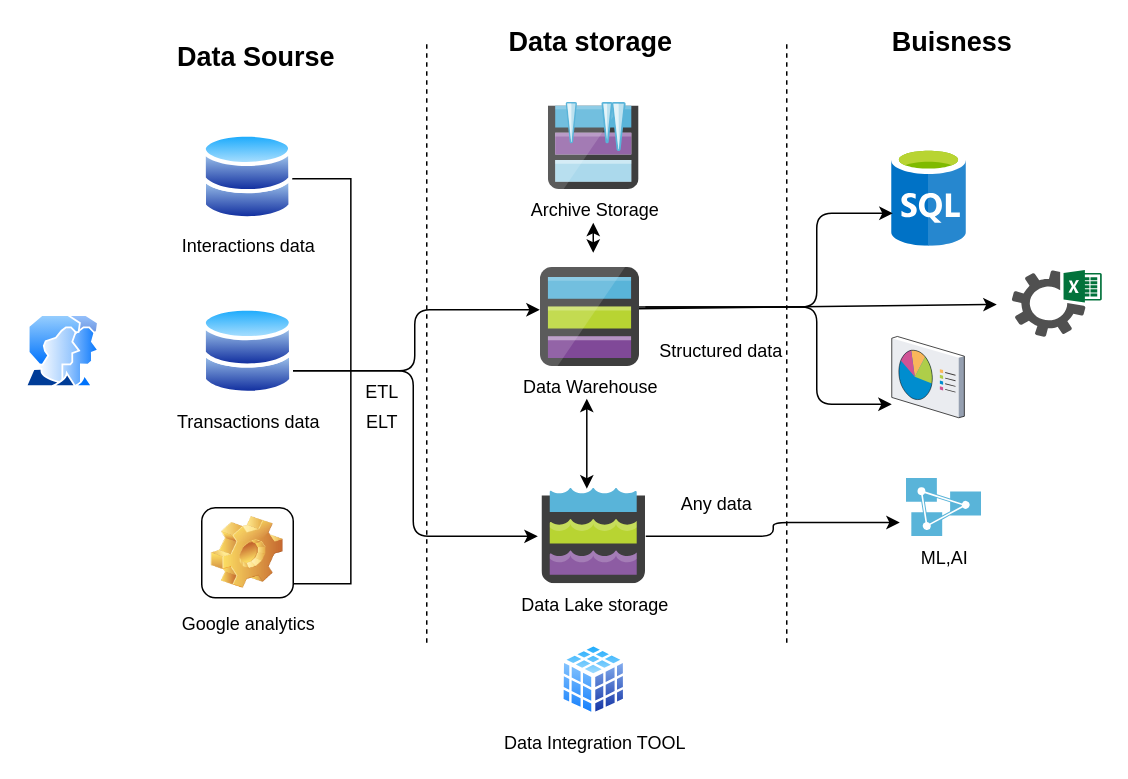
This 1128x779 diagram has some shape labels left out. Here are the shapes that lost their labels. From the top down, the centre of each, then its label:
(x=928, y=196): SQL
(x=1056, y=302): Excel
(x=62, y=350): Users
(x=927, y=376): BI
